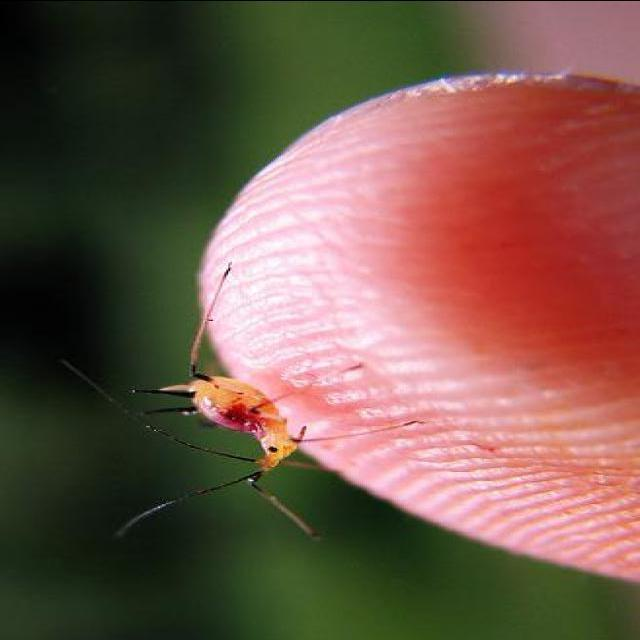aphid: (156, 326, 312, 494)
